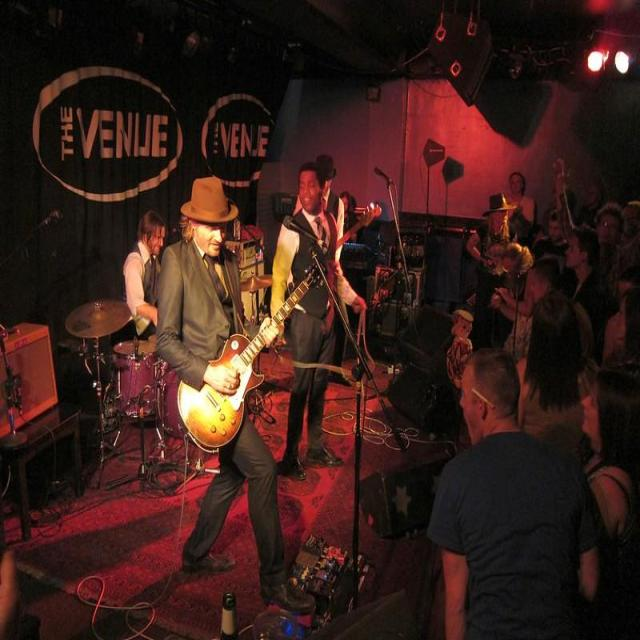guitar: (178, 332, 265, 452)
